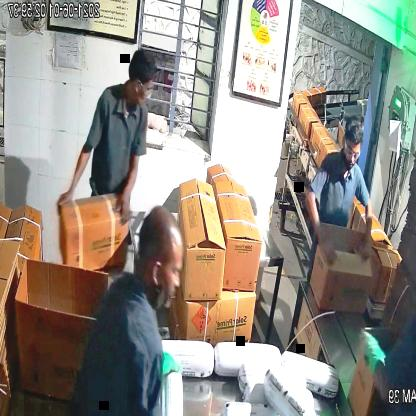goggles: (336, 142, 366, 166)
